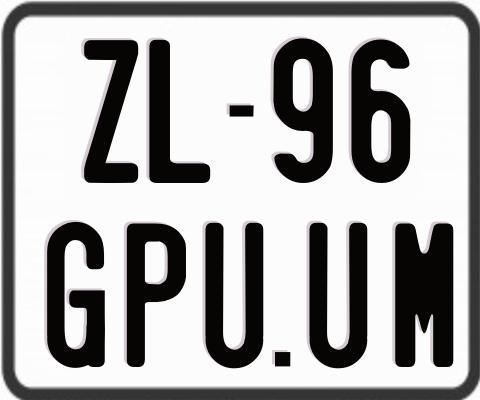6: (350, 36, 413, 184)
9: (270, 38, 333, 183)
G: (45, 220, 108, 369)
L: (146, 40, 212, 185)
M: (393, 222, 453, 371)
P: (127, 220, 190, 364)
U: (204, 223, 267, 371), (306, 222, 366, 372)
Z: (82, 37, 142, 181)
